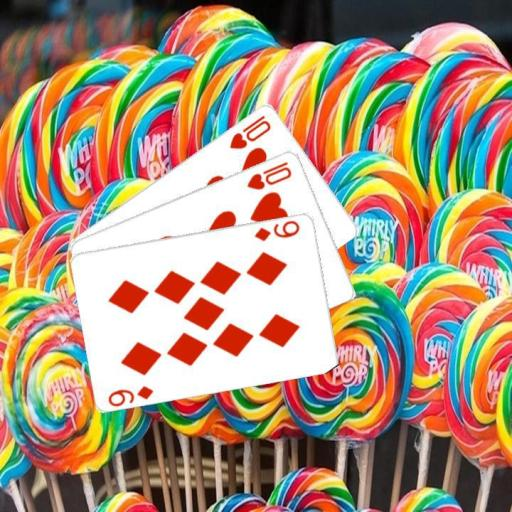10H: (226, 112, 272, 151), (244, 158, 294, 191)
9D: (252, 217, 302, 242), (105, 382, 155, 407)
